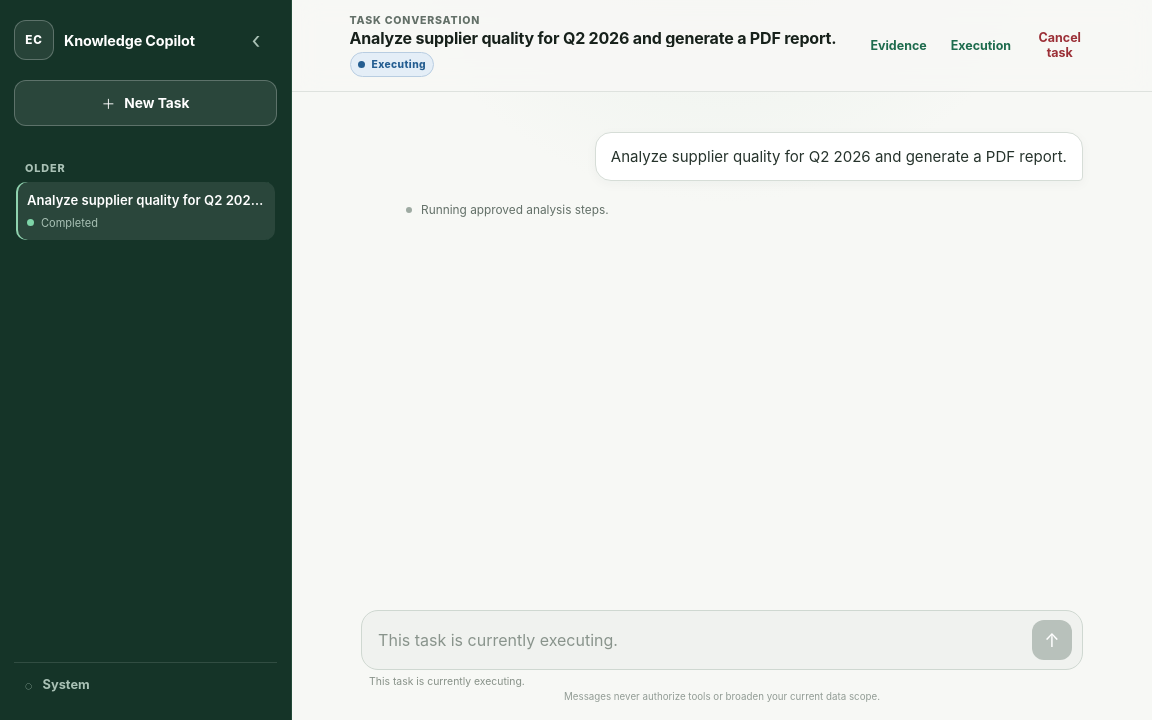
Chat-first Task Workspace › requires confirmation before cancelling a running task
Click the button "Cancel task" at (1060, 45), box x1=1025 y1=23 x2=1094 y2=67
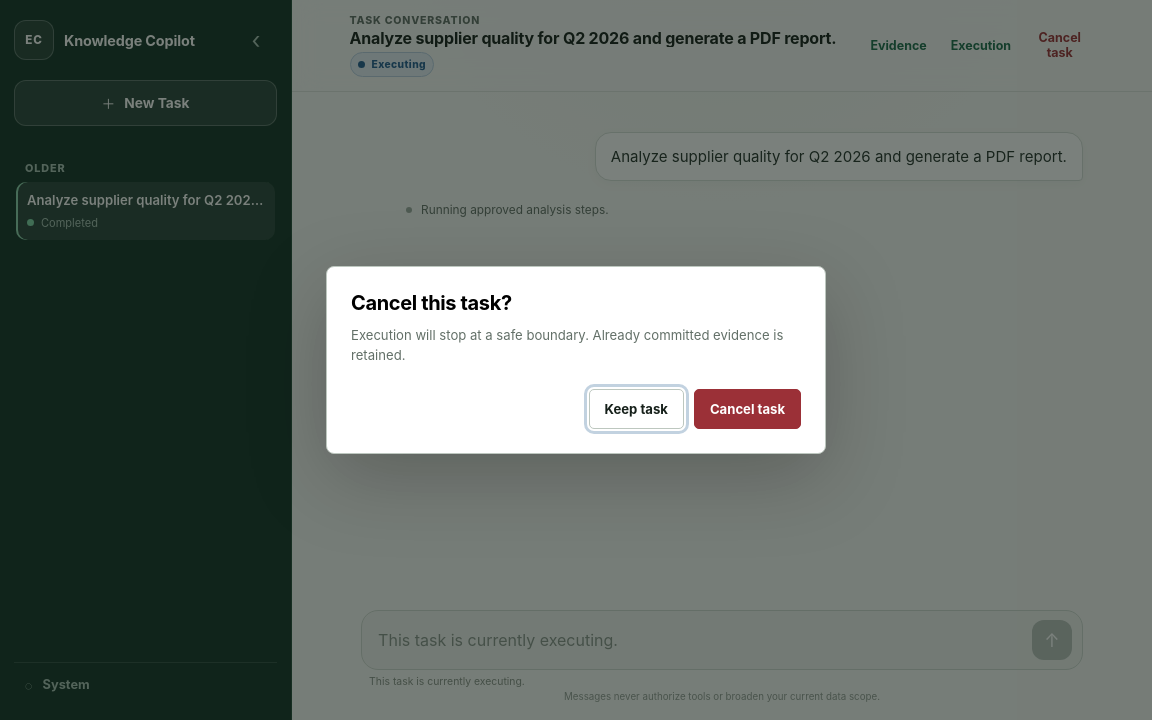
Result: the dialog "Cancel this task?" is shown at x1=326 y1=266 x2=826 y2=454
Result: the button "Cancel task" is shown at x1=694 y1=389 x2=801 y2=429
